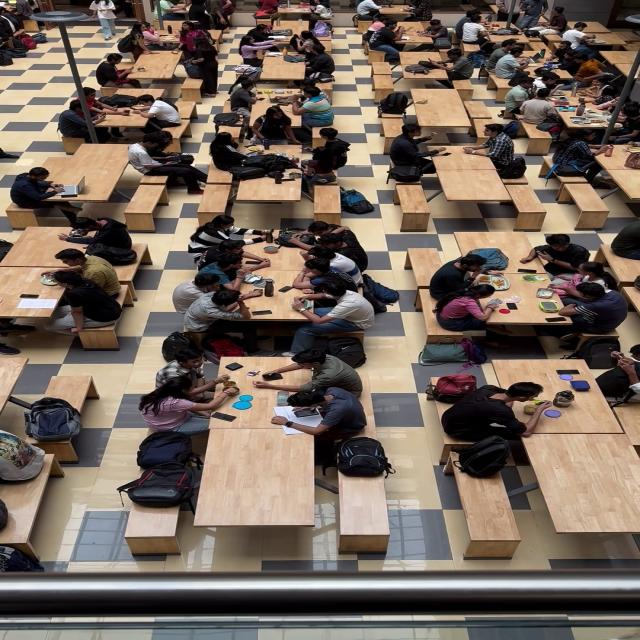Occupied: (172, 211, 390, 349), (159, 350, 373, 452), (445, 237, 629, 344), (28, 218, 158, 364), (447, 344, 640, 437), (457, 0, 615, 79), (84, 22, 245, 87), (498, 74, 640, 132), (206, 128, 354, 183), (391, 120, 536, 176), (50, 78, 177, 136), (0, 397, 86, 480), (218, 78, 334, 134), (238, 22, 343, 83), (119, 134, 206, 192), (8, 162, 95, 218), (134, 437, 206, 497), (356, 8, 463, 47), (553, 129, 640, 172), (403, 40, 484, 84), (322, 434, 390, 475), (249, 0, 342, 28), (455, 437, 517, 477), (370, 84, 430, 123), (156, 0, 245, 26), (0, 0, 40, 56), (0, 485, 26, 542), (0, 261, 30, 291)
Unoccupied: (198, 432, 308, 532), (531, 434, 640, 533), (455, 473, 531, 548), (340, 477, 391, 531), (437, 172, 506, 203), (127, 506, 182, 543), (415, 80, 462, 122), (567, 182, 618, 218), (128, 174, 164, 220), (504, 177, 547, 215), (40, 374, 93, 400), (237, 182, 302, 203), (72, 144, 126, 166), (601, 45, 640, 75), (198, 177, 229, 214), (399, 182, 430, 218), (0, 262, 18, 319), (312, 181, 340, 213), (462, 98, 494, 124), (370, 52, 390, 86), (624, 174, 640, 197)
